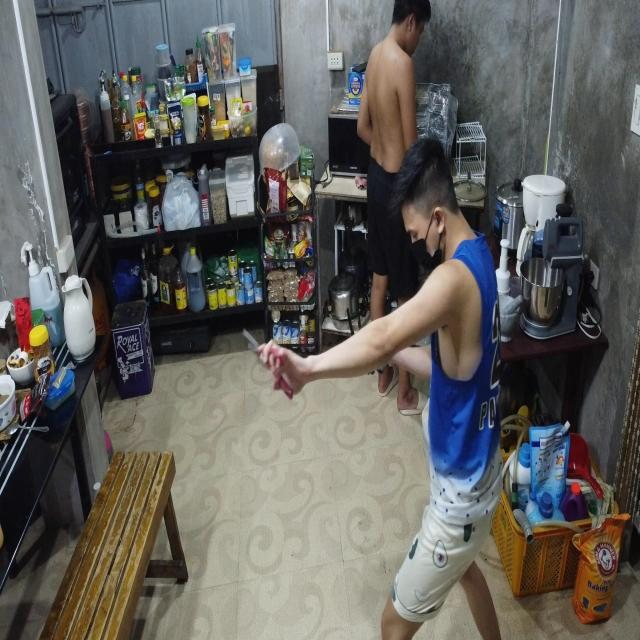scissor: (242, 328, 294, 398)
